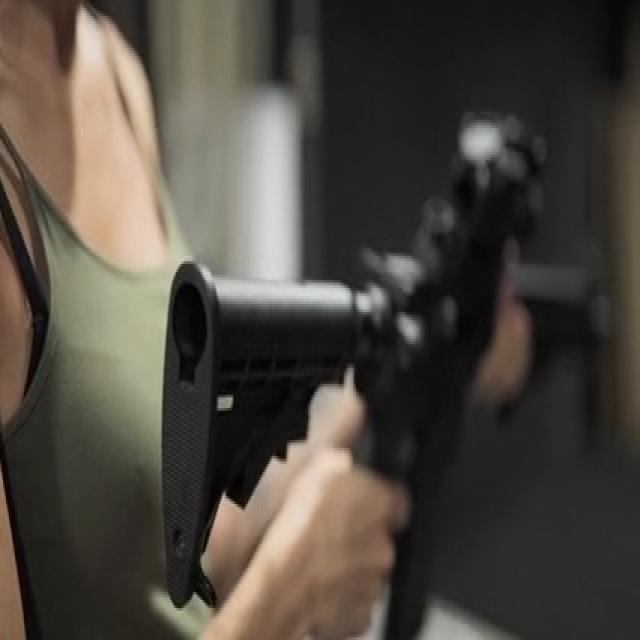Gun_Holder: (135, 53, 640, 640)
